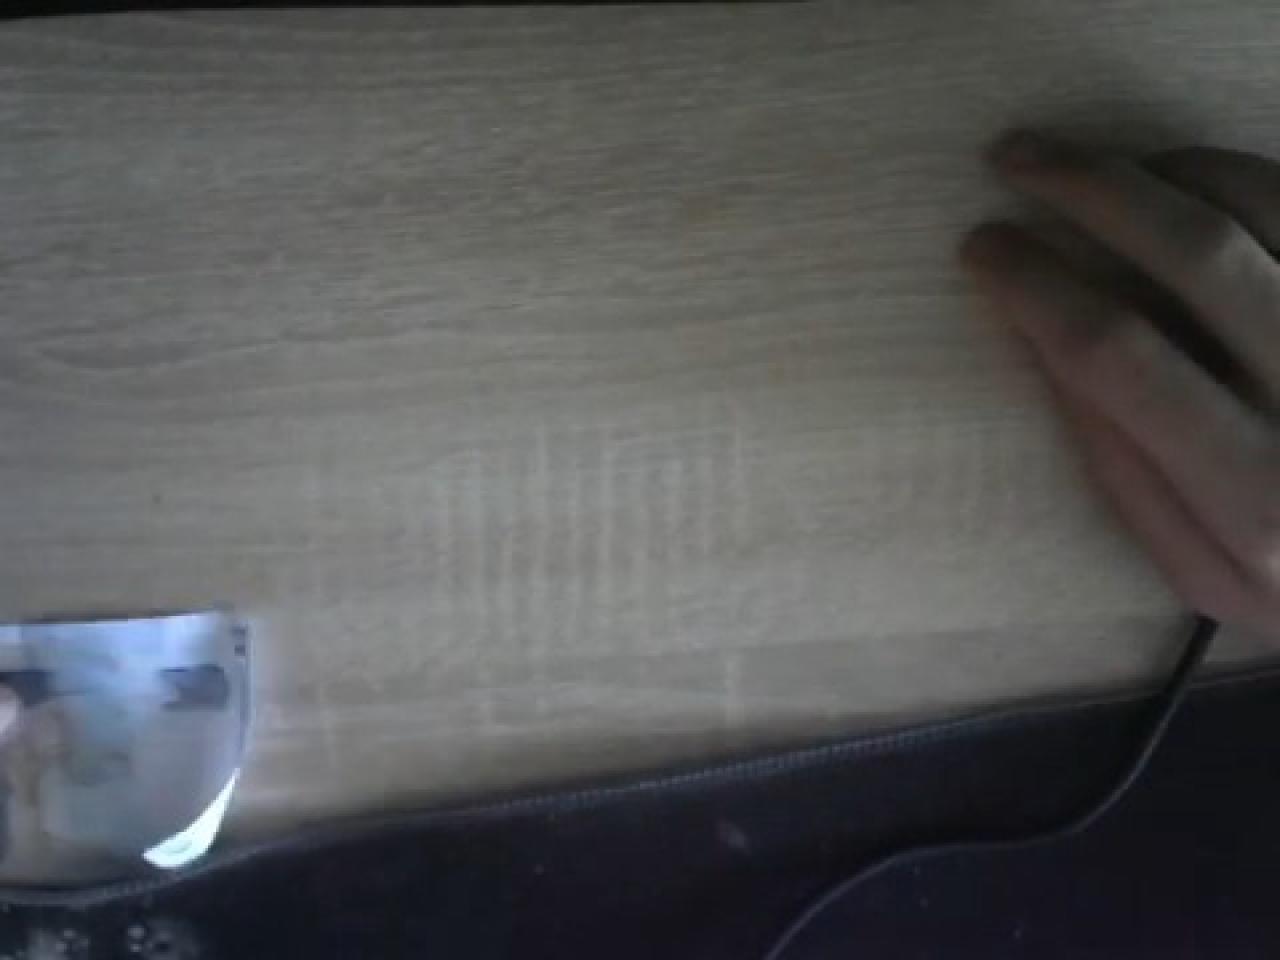20leva: (0, 608, 251, 861)
